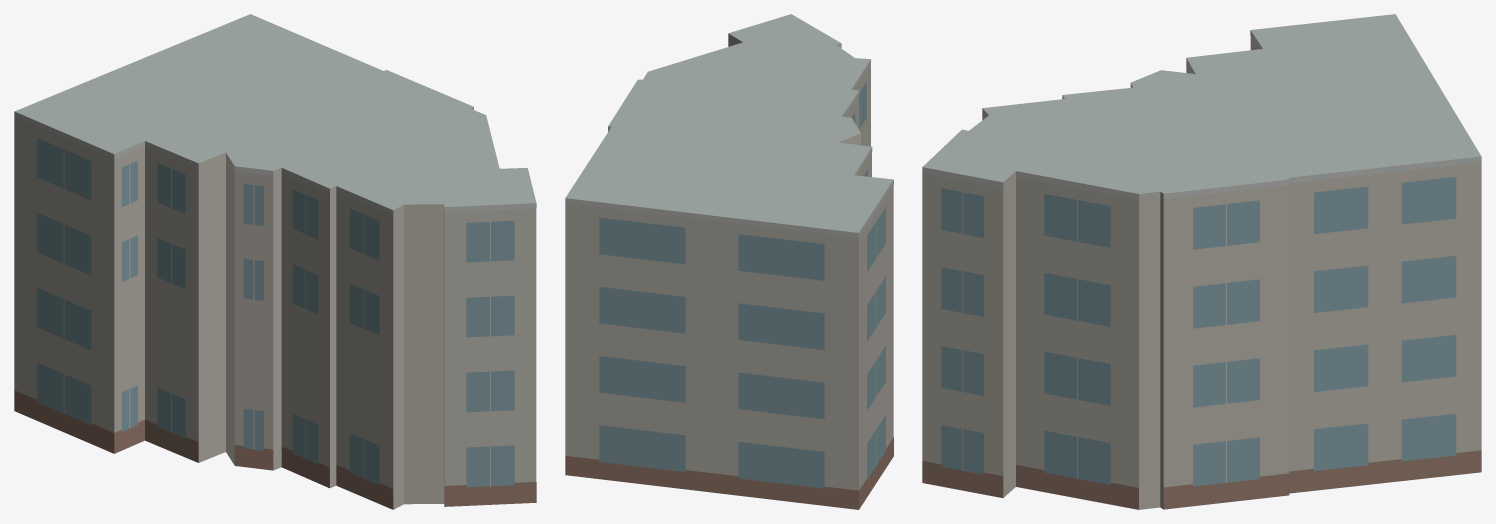
File: survey-upis-32584005.glb
3 views of the same model, side by side, from view 1: azimuth 30°, elevation 25°; view 2: azimuth 150°, elevation 25°; view 3: azimuth 270°, elevation 25° (orthographic). The views are drawn at different scales.
Parts seen in each view (by area): view 1: survey-upis-32584005.tmp; view 2: survey-upis-32584005.tmp; view 3: survey-upis-32584005.tmp.
Part boxes in pixels (x1,y1,x2,y2): survey-upis-32584005.tmp: (14,14,536,509); survey-upis-32584005.tmp: (565,14,893,509); survey-upis-32584005.tmp: (922,14,1481,509).
Bounding box in the file's own units: 16.48 × 13.47 × 21.63.
